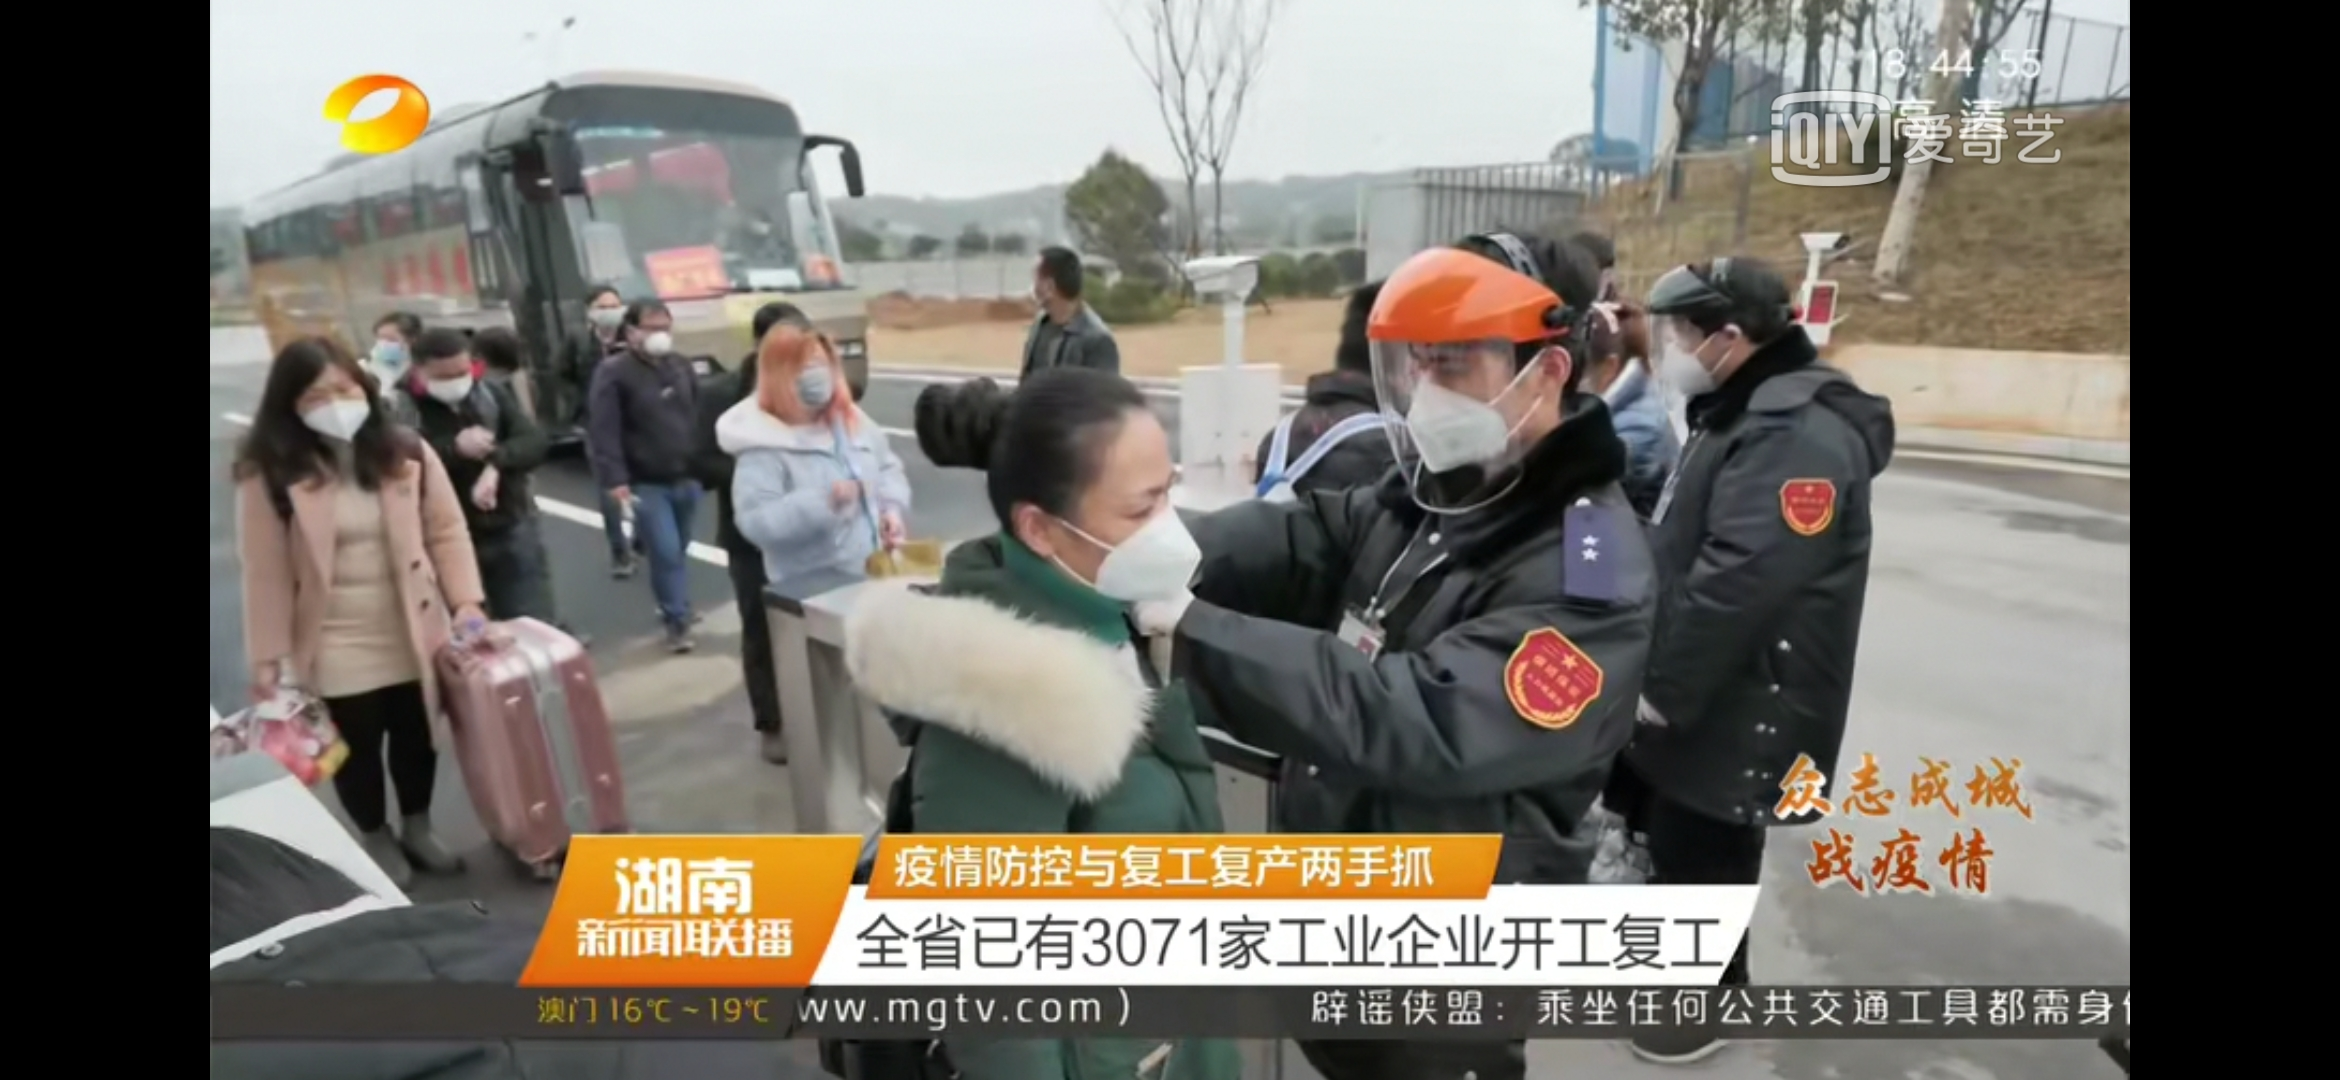correctlyWear: (1019, 436, 1210, 621), (1407, 343, 1571, 489), (1664, 313, 1754, 401), (298, 367, 366, 448), (782, 342, 834, 412), (422, 352, 478, 409), (372, 321, 416, 371), (631, 318, 675, 365), (1030, 258, 1064, 307), (588, 286, 622, 334)
